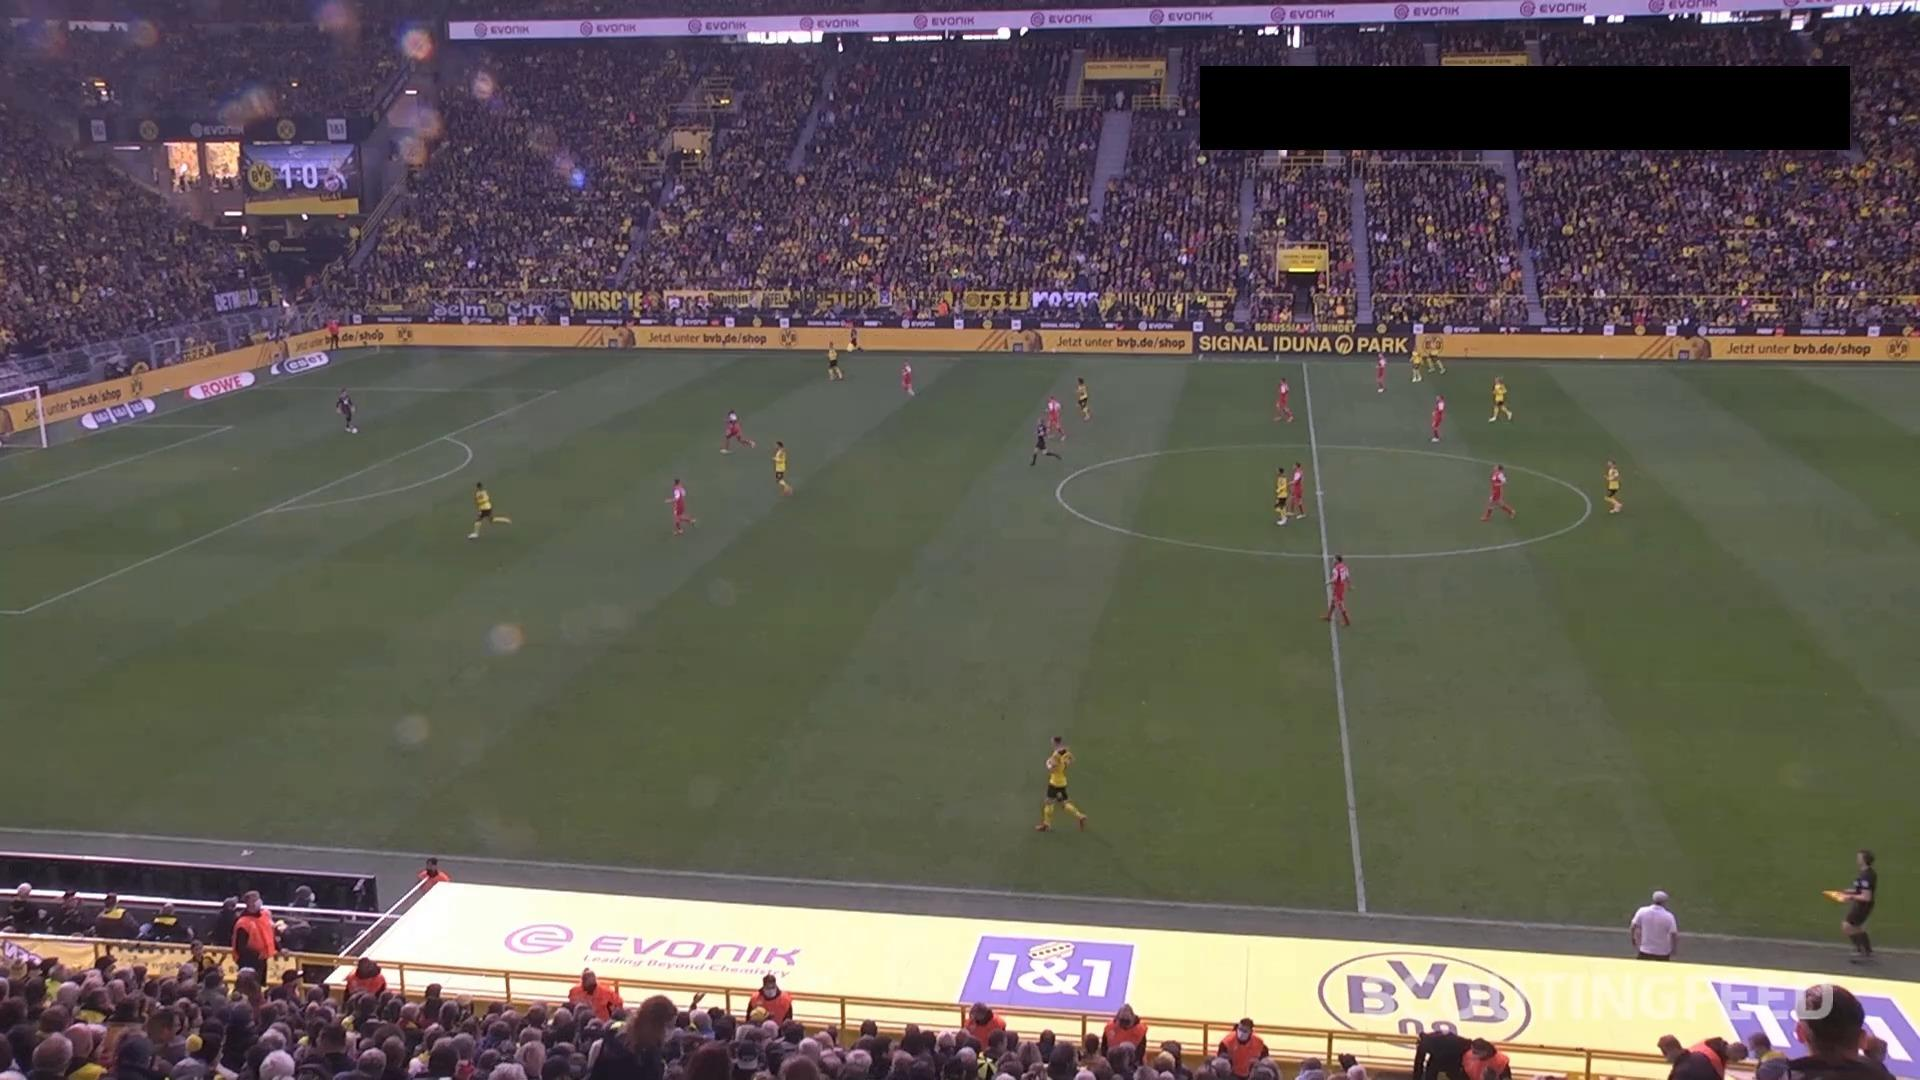ball: (351, 426, 359, 435)
